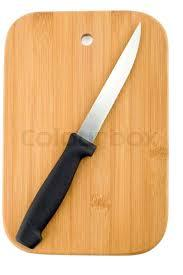Knife: (15, 21, 141, 249)
